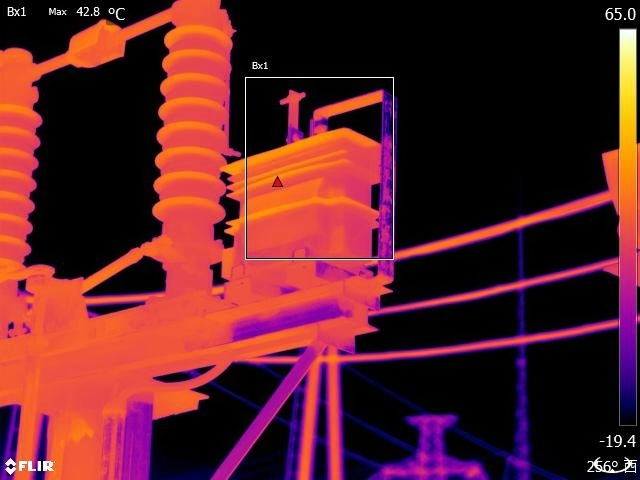post insulator: (142, 20, 234, 233), (1, 92, 55, 269)
switch: (1, 1, 231, 101)
